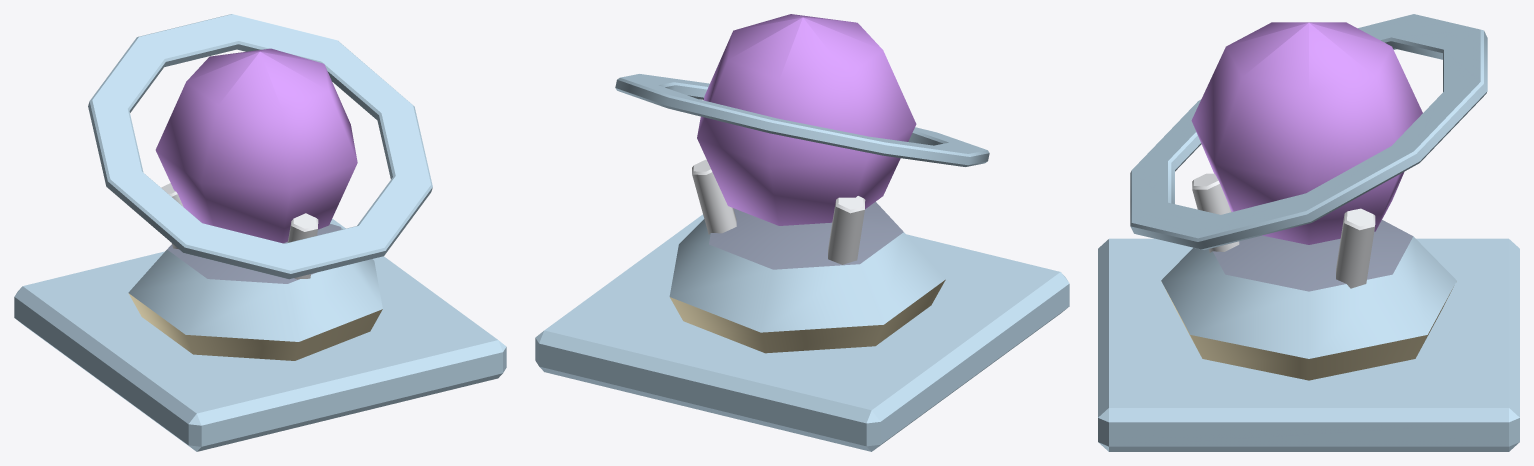
File: R4X_OrbAmplifier_LOD1.glb
The picture shows the model from 3 angles, left to right: view 1: azimuth 30°, elevation 25°; view 2: azimuth 150°, elevation 25°; view 3: azimuth 270°, elevation 25°; orthographic projection. The views are drawn at different scales.
Parts seen in each view (by area): view 1: R4X_OrbAmplifier_LOD1; view 2: R4X_OrbAmplifier_LOD1; view 3: R4X_OrbAmplifier_LOD1.
Part boxes in pixels (box(x1,y1,x2,y2)): R4X_OrbAmplifier_LOD1: box(14, 14, 506, 451); R4X_OrbAmplifier_LOD1: box(535, 14, 1069, 451); R4X_OrbAmplifier_LOD1: box(1098, 14, 1519, 451).
Bounding box in the file's own units: 0.52 × 0.4685 × 0.52.
